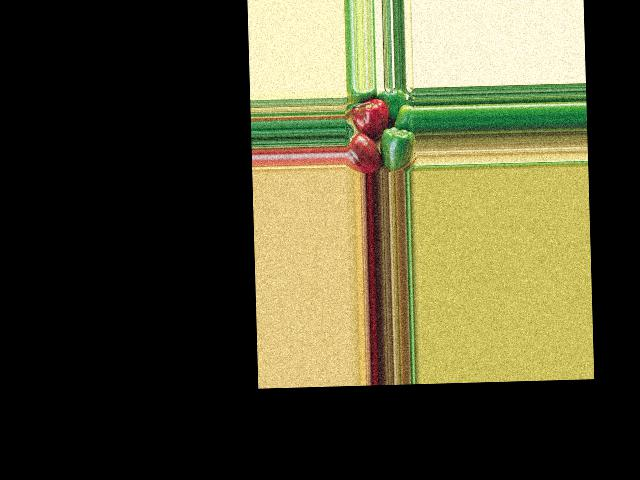bell_pepper: (346, 132, 379, 173)
